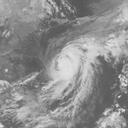cyclone: (45, 37, 107, 103)
